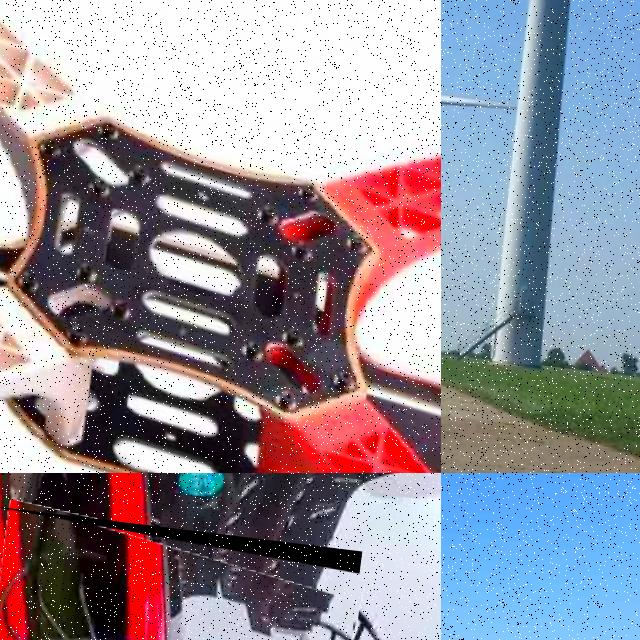0: (0, 505, 362, 640)
drone: (0, 0, 441, 473)
